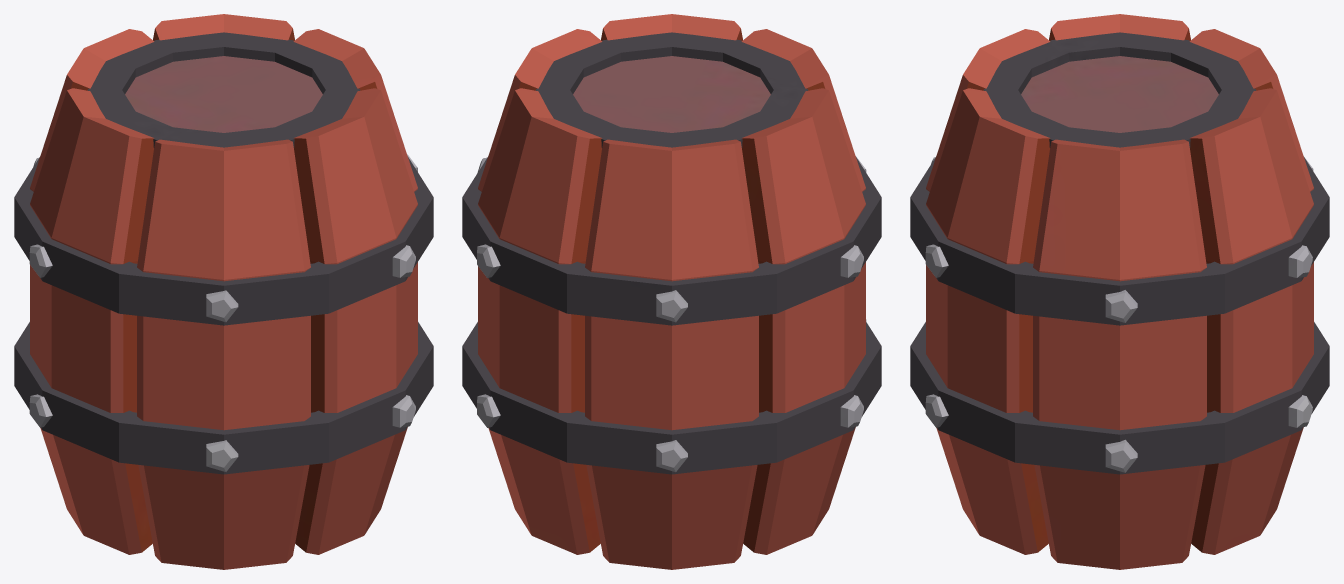
File: bucket.fbx
3 views of the same model, side by side, from view 1: azimuth 30°, elevation 25°; view 2: azimuth 150°, elevation 25°; view 3: azimuth 270°, elevation 25° (orthographic).
Parts seen in each view (by area): view 1: bucket; view 2: bucket; view 3: bucket.
Boxes of the visible parts, bbox=[...] form: bucket: bbox=[14, 14, 433, 569]; bucket: bbox=[462, 14, 881, 569]; bucket: bbox=[910, 14, 1329, 569].
Bounding box in the file's own units: 167 × 177 × 160.
